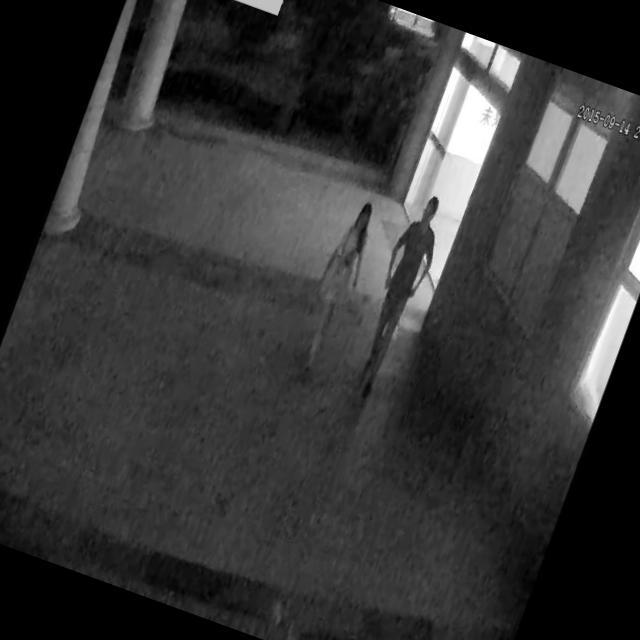person: (335, 182, 460, 412), (278, 187, 392, 400)
